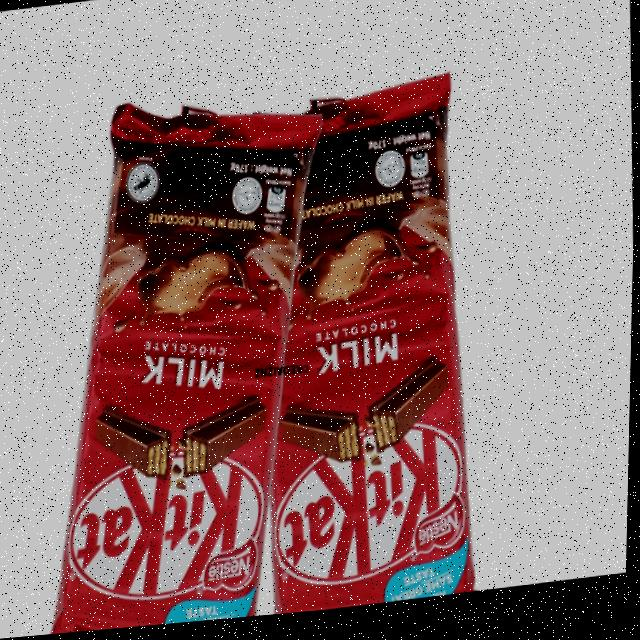kitkat: (32, 109, 338, 637), (206, 72, 487, 625)
